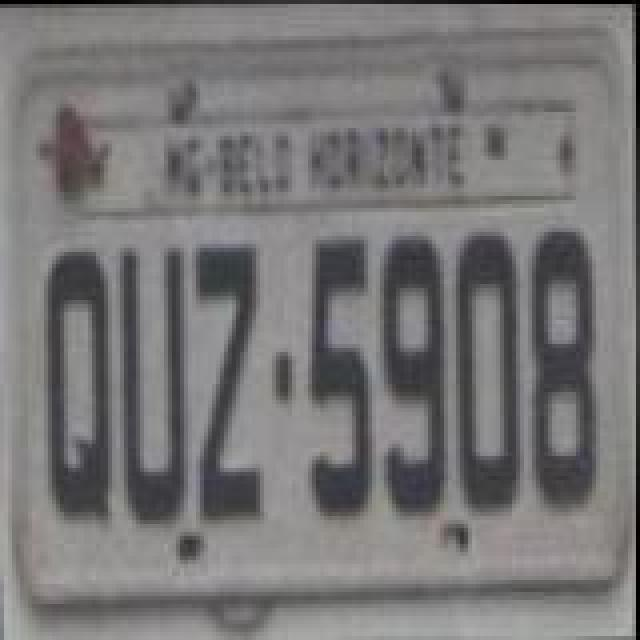5: (308, 234, 380, 530)
8: (530, 222, 602, 514)
9: (378, 230, 450, 522)
O: (450, 234, 522, 518)
Q: (44, 246, 116, 530)
U: (120, 240, 192, 532)
Z: (196, 244, 268, 524)
